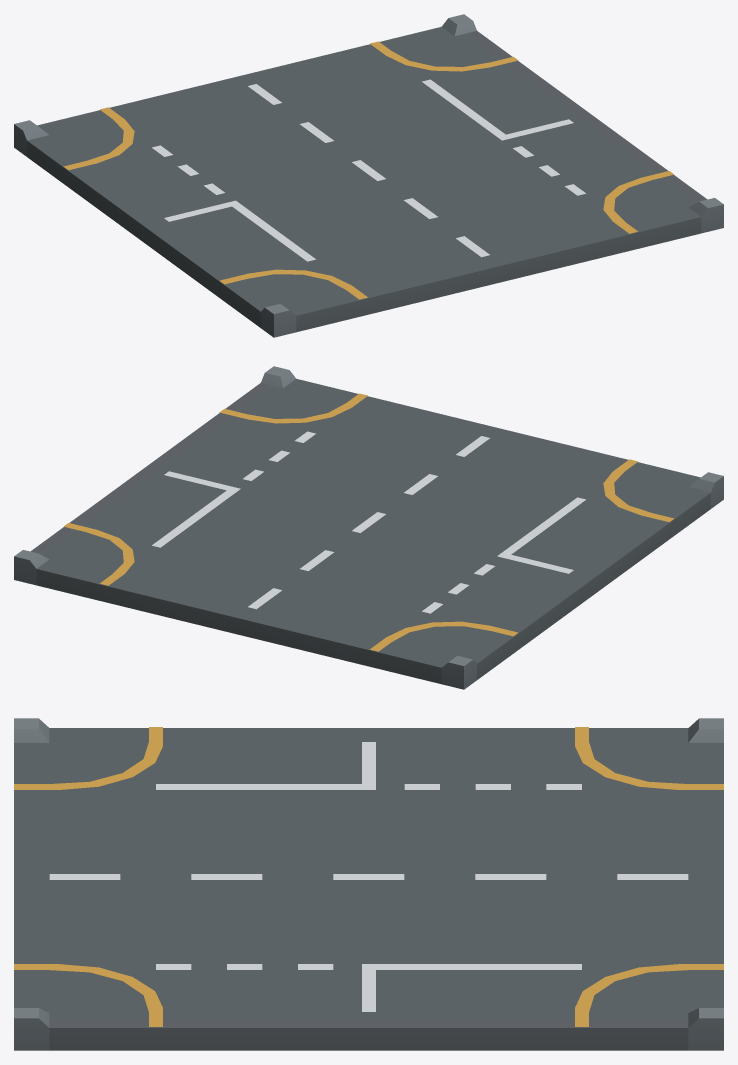
File: intersection.glb
3 views of the same model, one above another, from view 1: azimuth 30°, elevation 25°; view 2: azimuth 150°, elevation 25°; view 3: azimuth 270°, elevation 25° (orthographic). The views are drawn at different scales.
Parts seen in each view (by area): view 1: road_junction; view 2: road_junction; view 3: road_junction.
Boxes of the visible parts, bbox=[...] form: road_junction: bbox=[14, 14, 723, 337]; road_junction: bbox=[14, 366, 723, 689]; road_junction: bbox=[14, 718, 723, 1050].
Bounding box in the file's own units: 2 × 0.1 × 2.
Materials: 1 (1 with a texture image).
